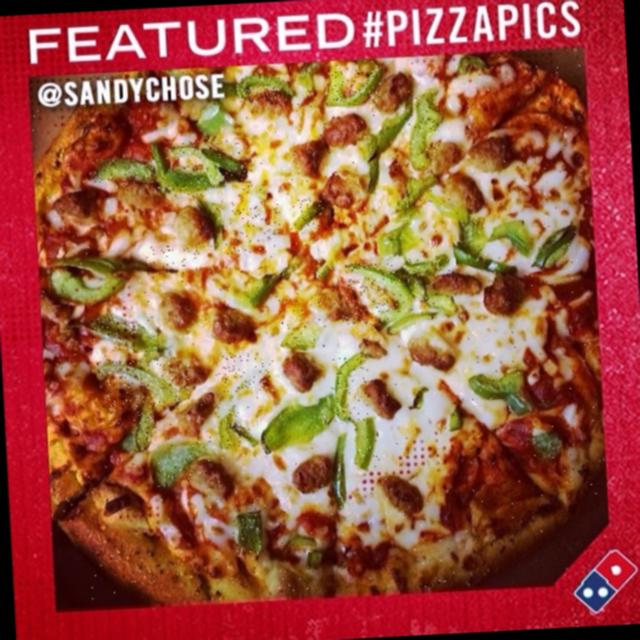Cheese: (222, 202, 282, 255), (216, 350, 276, 394), (147, 244, 201, 275)
Peppers: (96, 354, 191, 410), (170, 137, 257, 197), (344, 260, 414, 326), (47, 252, 133, 305), (264, 400, 336, 450), (82, 312, 160, 358), (152, 442, 214, 492), (406, 90, 442, 174), (333, 353, 372, 422), (240, 262, 294, 310), (528, 223, 578, 272), (324, 68, 382, 108), (454, 240, 514, 278), (92, 156, 156, 190), (469, 370, 528, 402), (357, 132, 386, 194), (132, 387, 158, 453), (235, 74, 292, 104), (351, 420, 384, 471), (280, 319, 329, 353), (234, 508, 266, 558), (396, 178, 446, 210), (378, 224, 428, 256), (329, 436, 350, 506), (383, 312, 437, 339), (490, 221, 531, 256), (148, 141, 172, 198), (288, 198, 328, 232), (399, 252, 452, 277), (218, 410, 242, 452)
Pizza: (31, 49, 614, 612)
